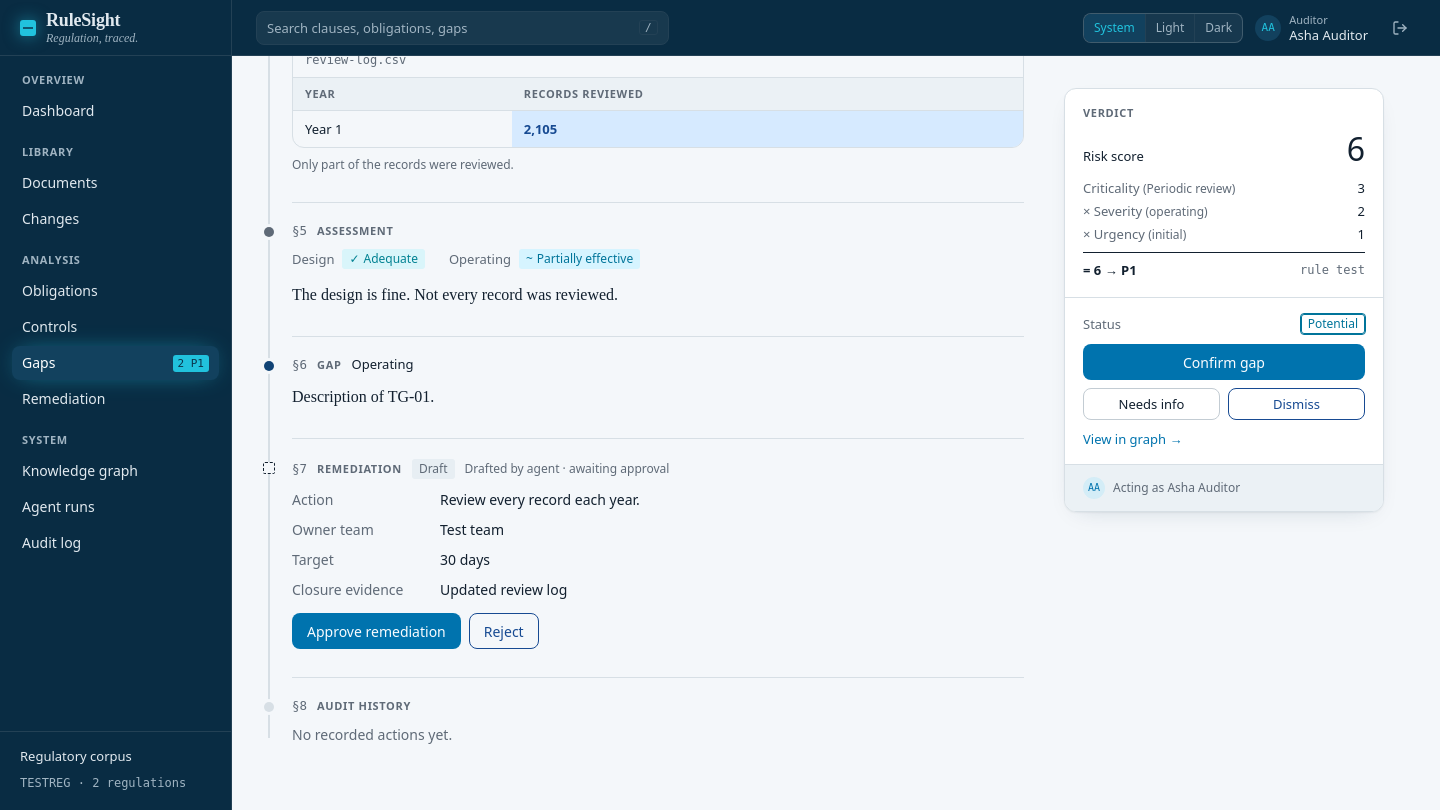
Test case: Permissions › lets the API refuse a write the signed-in role is not allowed to make
(page scrolled)
Click the button "Approve remediation" at (376, 631), box x1=292 y1=613 x2=461 y2=649
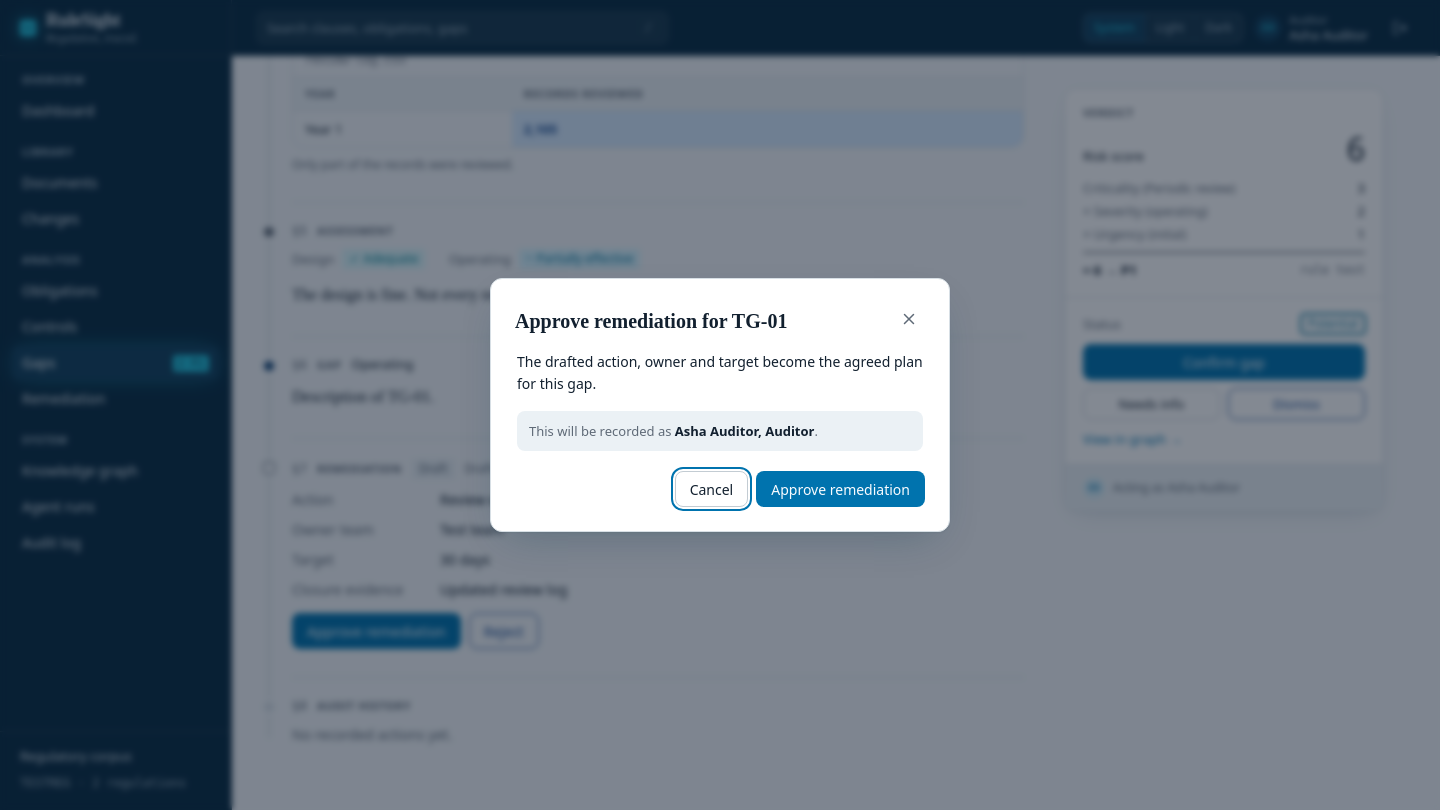
Click the button "Approve remediation" at (841, 489), box x1=756 y1=471 x2=925 y2=507
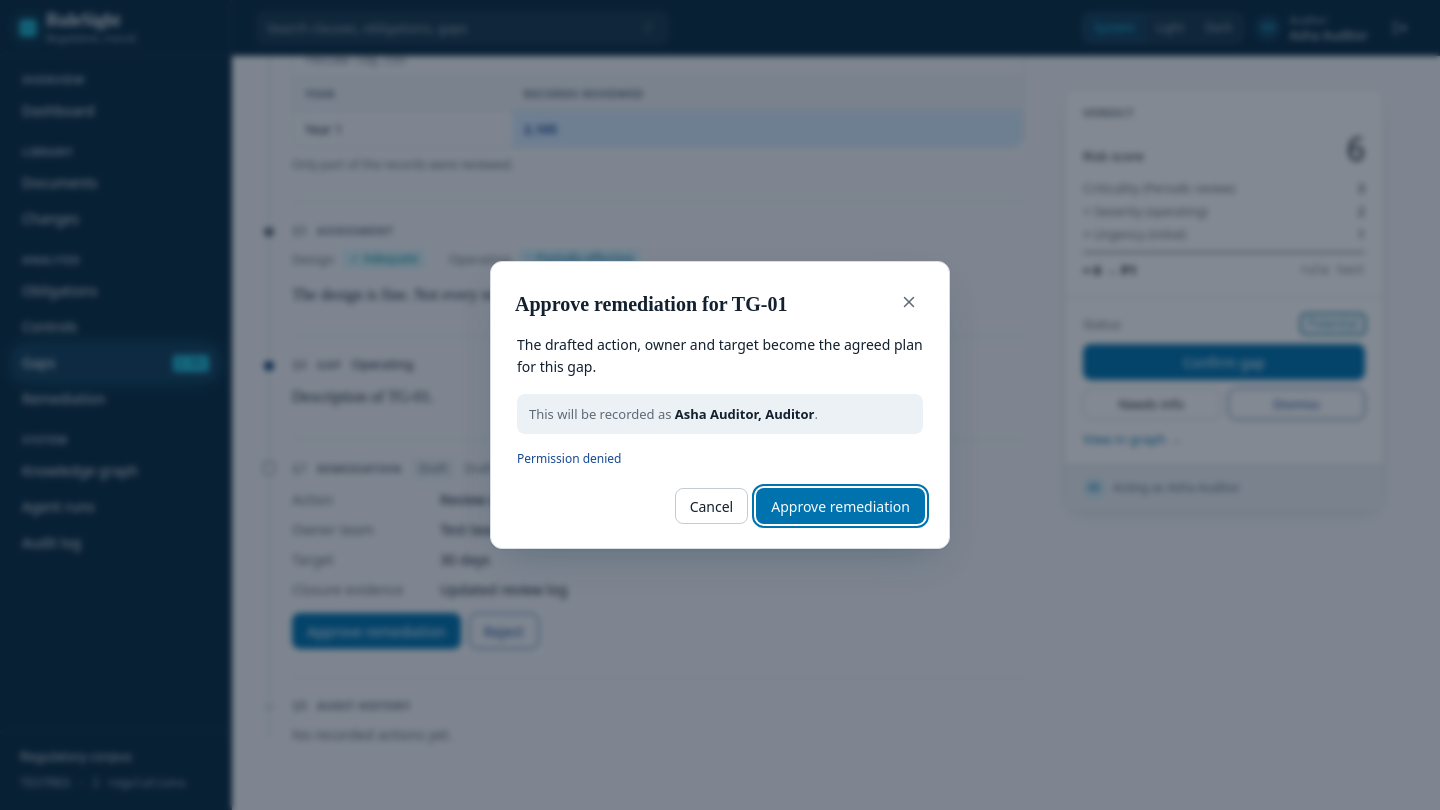
Now the text "Permission denied" is shown, box x1=517 y1=450 x2=622 y2=467
